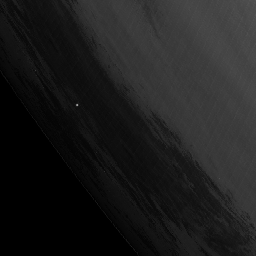Target: (74, 102, 80, 108)
